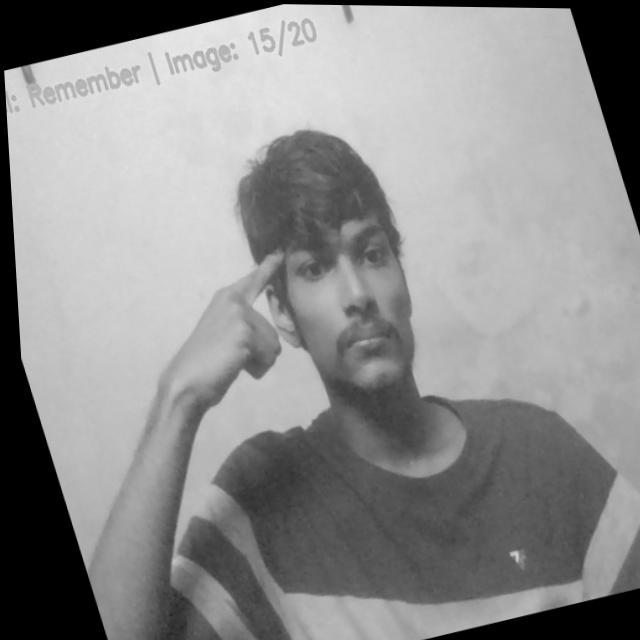Remember: (123, 243, 325, 427)
